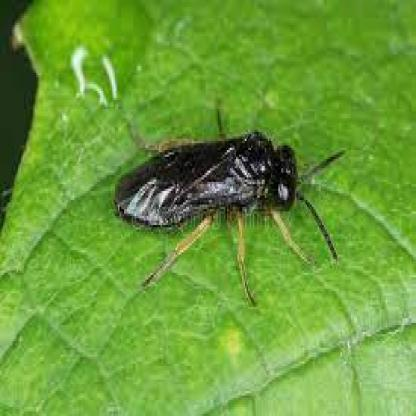sawfly: (107, 115, 341, 300)
